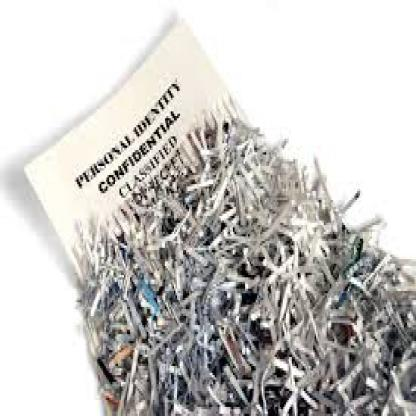paper: (74, 121, 415, 414), (22, 14, 240, 291)
